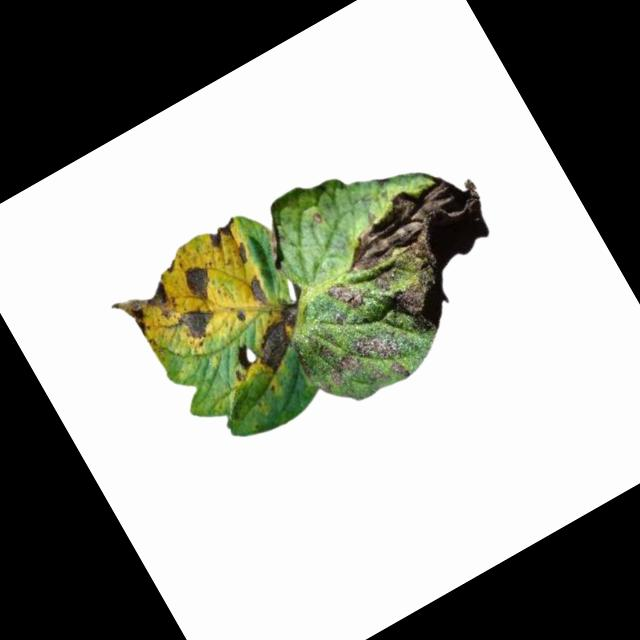Early_blight: (328, 157, 530, 352), (326, 321, 416, 406), (239, 296, 320, 377), (109, 273, 182, 342), (170, 299, 219, 347), (322, 270, 369, 318), (178, 258, 219, 304), (202, 215, 242, 251), (239, 271, 272, 308), (226, 338, 257, 372), (231, 239, 252, 264), (233, 309, 248, 324)
